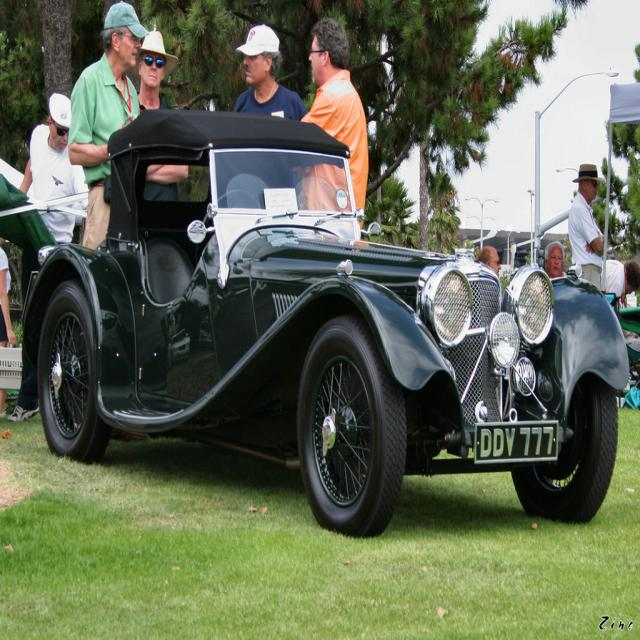car: (16, 103, 628, 536)
